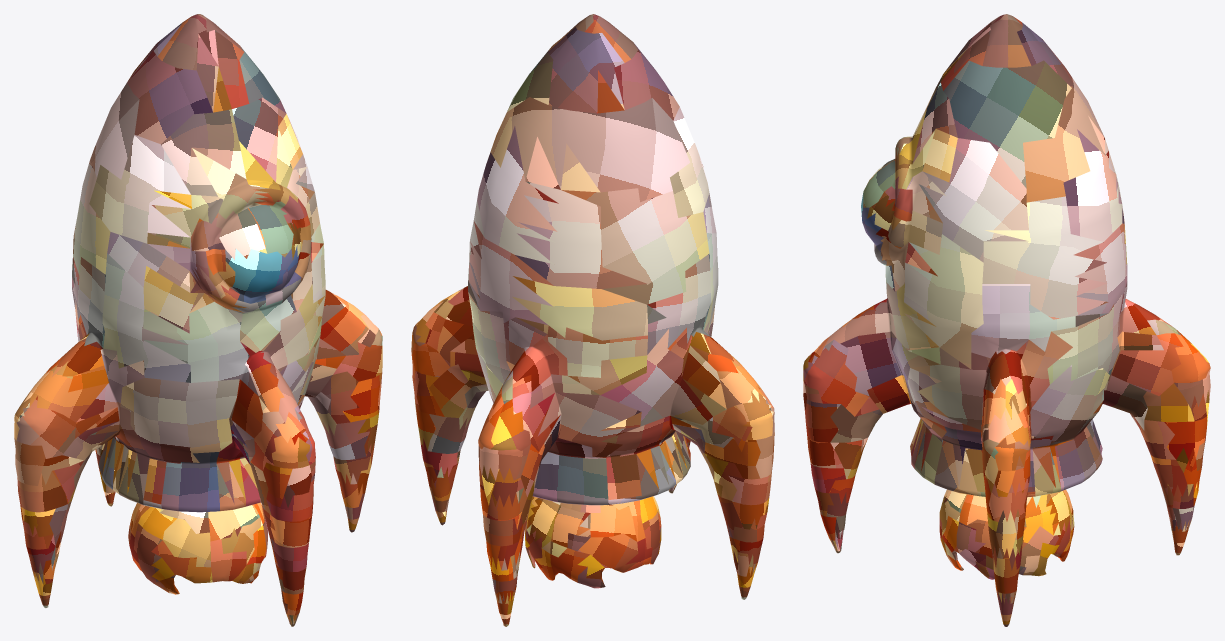
File: rocket.glb
3 views of the same model, side by side, from view 1: azimuth 30°, elevation 25°; view 2: azimuth 150°, elevation 25°; view 3: azimuth 270°, elevation 25° (orthographic). The views are drawn at different scales.
Bounding box in the file's own units: 1.3 × 1.91 × 1.3.
1 material, 1 textured.
